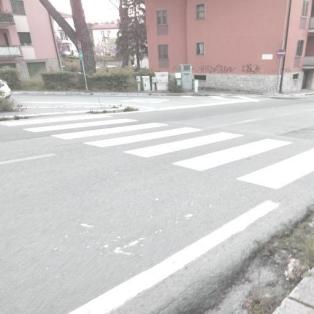Paso de Cebra: (78, 126, 248, 161)
